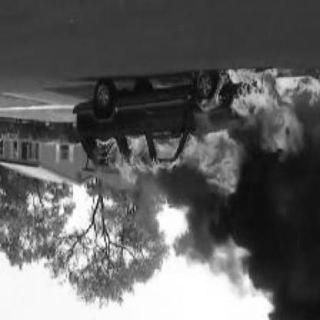Fire: (100, 67, 319, 195)
Smoke: (246, 170, 320, 320)
